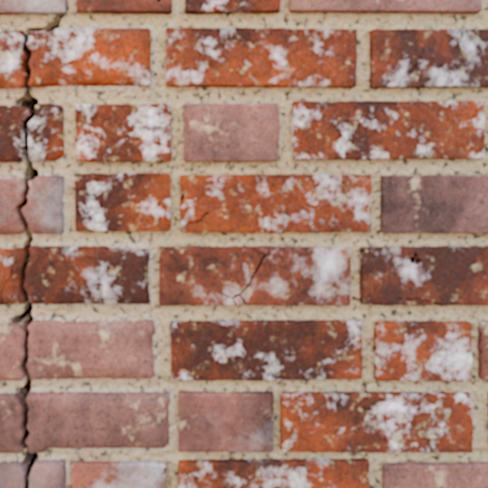brick: (280, 391, 471, 451), (171, 320, 361, 379), (166, 28, 355, 86), (292, 101, 483, 158), (180, 175, 370, 231), (360, 247, 487, 304), (370, 29, 487, 87), (243, 247, 349, 304), (380, 176, 487, 232), (159, 247, 261, 304), (374, 321, 471, 380), (179, 392, 272, 451), (76, 104, 170, 161), (178, 459, 368, 487), (184, 104, 278, 160), (75, 174, 169, 230), (382, 462, 487, 487), (72, 461, 165, 487), (289, 0, 480, 12), (77, 0, 170, 13), (185, 0, 279, 12), (0, 0, 66, 14), (478, 321, 487, 379), (236, 297, 243, 304)
broken_brick: (27, 391, 170, 453), (28, 319, 154, 379), (25, 245, 150, 304), (29, 27, 151, 87), (23, 175, 64, 234), (29, 103, 64, 161), (0, 104, 27, 162), (0, 392, 23, 453), (0, 29, 23, 88), (0, 176, 23, 234), (0, 321, 22, 381), (30, 458, 66, 487), (0, 246, 23, 289), (0, 274, 23, 305), (0, 460, 22, 487)
crack: (0, 2, 68, 487), (219, 246, 270, 305), (395, 49, 424, 86), (180, 211, 209, 232), (396, 297, 442, 305), (180, 191, 199, 206), (161, 463, 167, 475), (167, 56, 174, 60)
